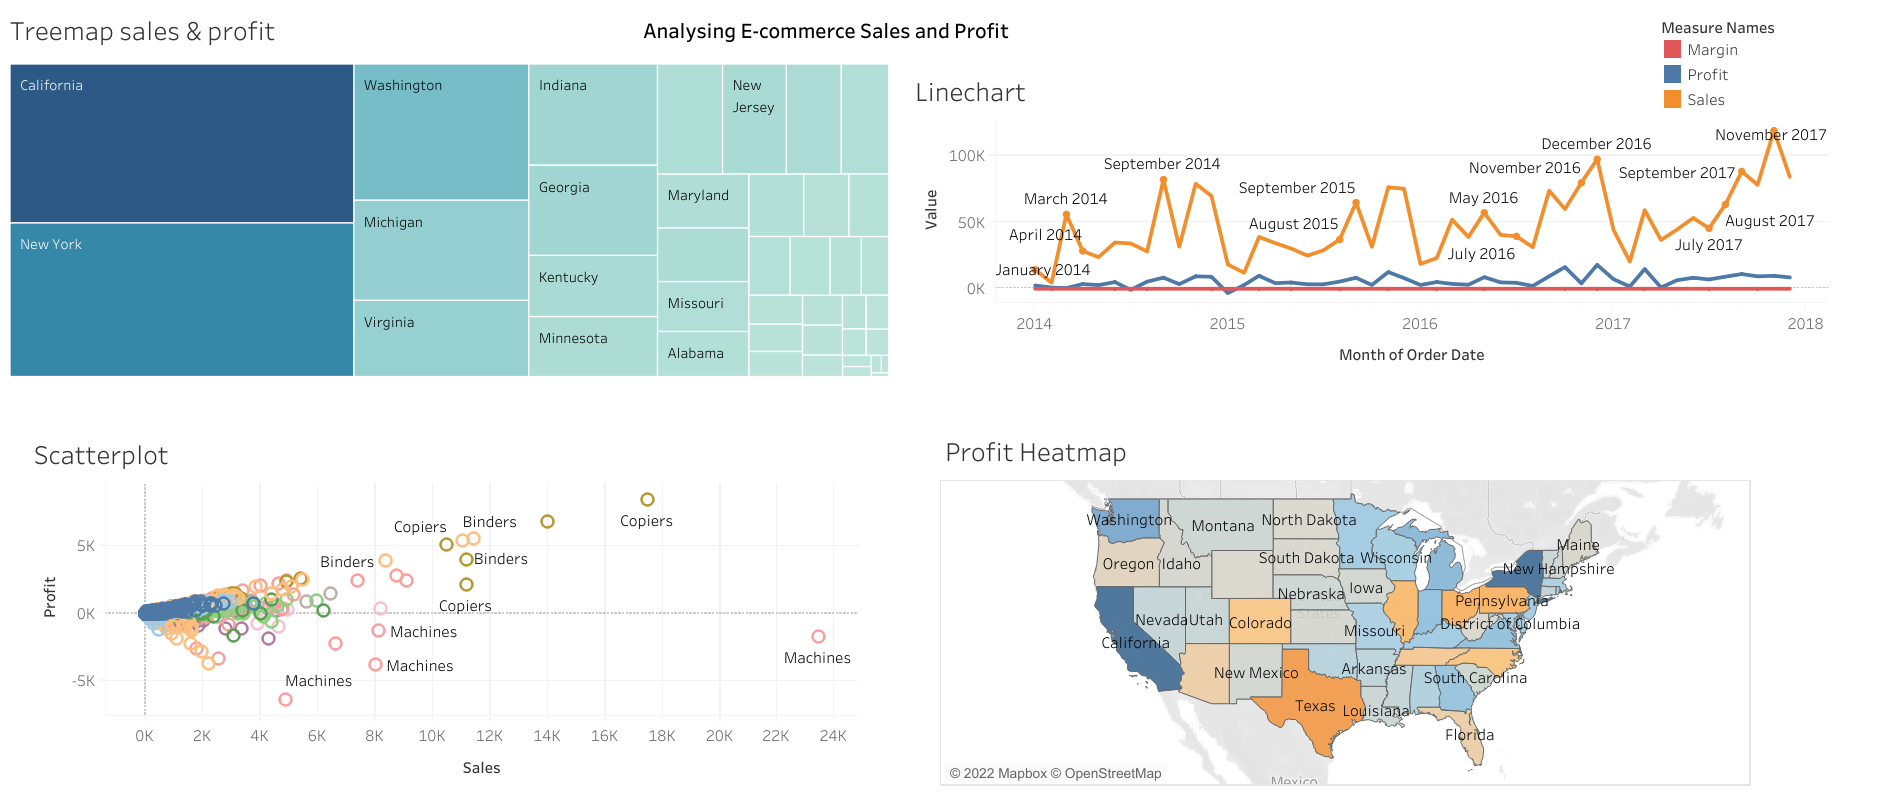

This screenshot's page, from the dashboard's own definition file:
{"tool":"tableau","page":{"name":"Dashboard 1","canvas":[1000,1000],"units":"permille","ordinal":0},"visuals":[{"type":"worksheet","title":"Treemap sales & profit","mark":"Automatic","box":[0,0,1000,1000]},{"type":"text","box":[340.2,16.3,243.1,40.6]},{"type":"legend","title":"Linechart","param":"[federated.145ccsa0zuqoh31cnd0s01u7o9jz].[:Measure Names]","box":[882.3,16.3,85.9,127.8]},{"type":"worksheet","title":"Linechart","mark":"Automatic","cols":["Order Date"],"box":[483.8,83.6,488.5,386.8]},{"type":"worksheet","title":"Profit Heatmap","mark":"Multipolygon","box":[499.4,535.4,431.4,454.1]},{"type":"worksheet","title":"Scatterplot","mark":"Automatic","rows":["Profit"],"cols":["Sales"],"box":[15.2,540.1,441.1,449.5]}]}

Visuals, with their boxes on the dashboard's canvas, which has no fixed pixel size, in thousandths of its width and height (x1, y1, x2, y2). These are canvas units, not pixel positions in the 1880x794 screenshot, which may show the page scaled, cropped or inside an application window:
"Treemap sales & profit" worksheet: detection(0, 0, 1000, 1000)
text: detection(340, 16, 583, 57)
"Linechart" legend: detection(882, 16, 968, 144)
"Linechart" worksheet: detection(484, 84, 972, 470)
"Profit Heatmap" worksheet (Multipolygon marks): detection(499, 535, 931, 990)
"Scatterplot" worksheet: detection(15, 540, 456, 990)
